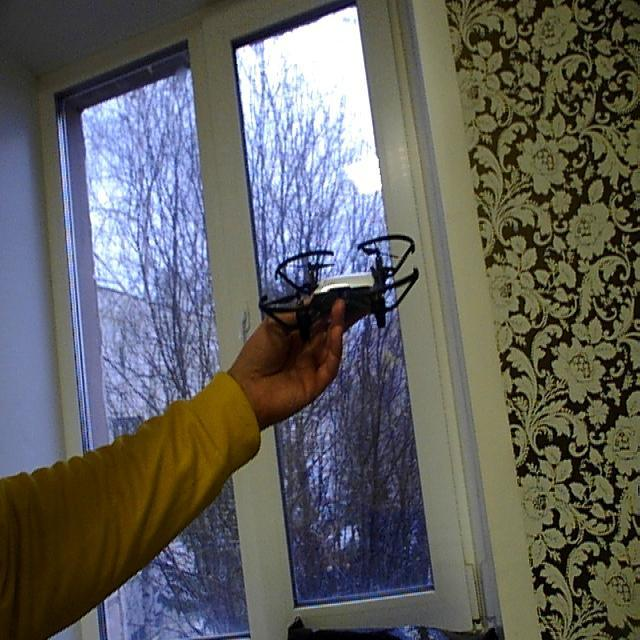drone: (255, 235, 428, 336)
